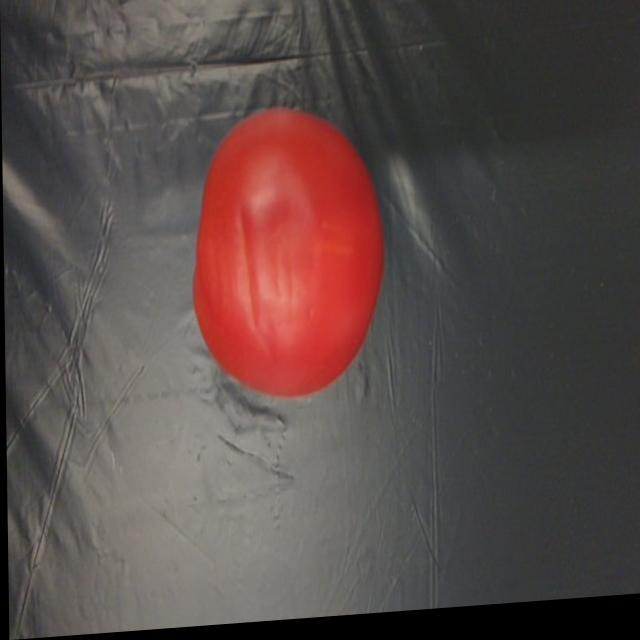kirmizi: (187, 84, 393, 412)
